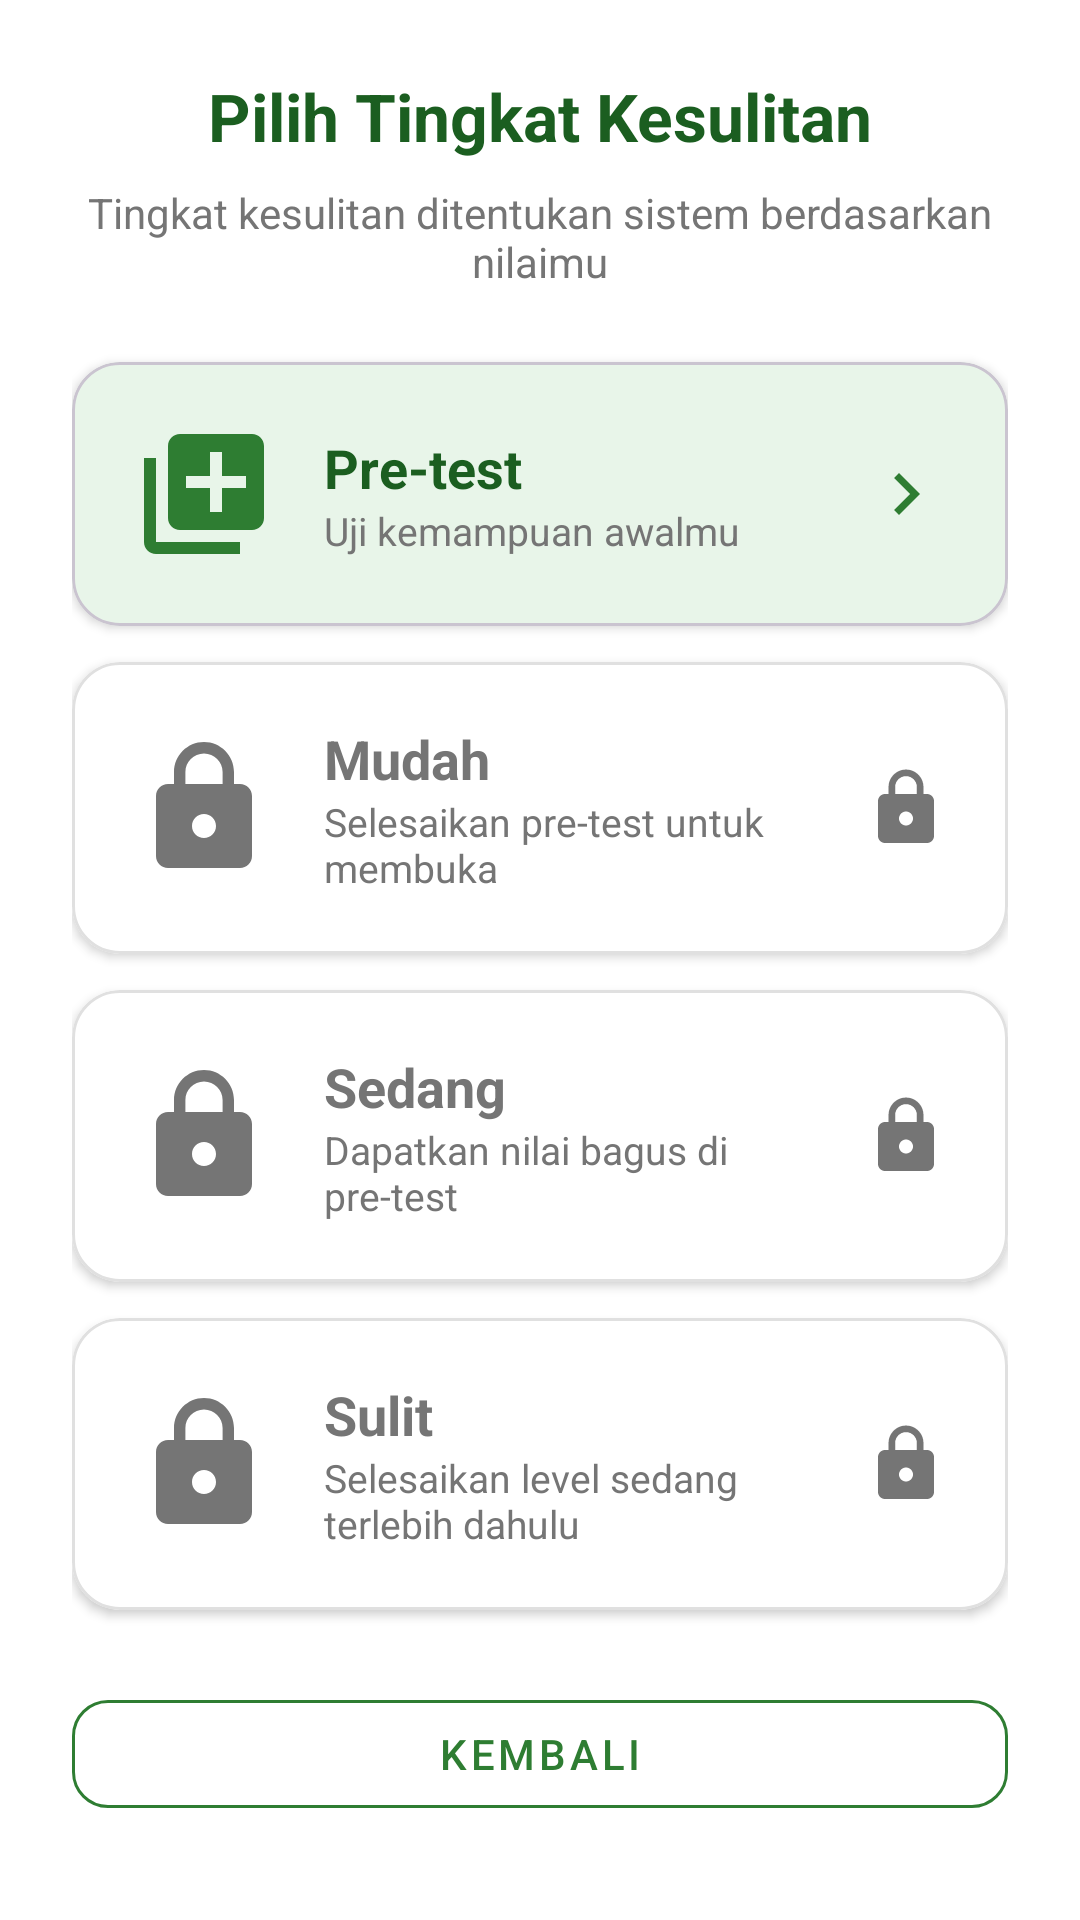

Screen size 1080w x 1920h. Icon name, then its center in pixels as (x,y):
arrow right: (907,494)
lock: (204,805), (906,806), (204,1133), (906,1134), (204,1461), (906,1462)
